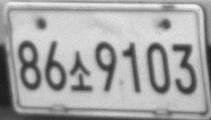0: (146, 41, 172, 95)
1: (120, 40, 146, 93)
3: (172, 42, 198, 95)
6: (44, 39, 67, 91)
8: (16, 39, 42, 91)
9: (93, 40, 117, 92)
소: (68, 50, 93, 91)
